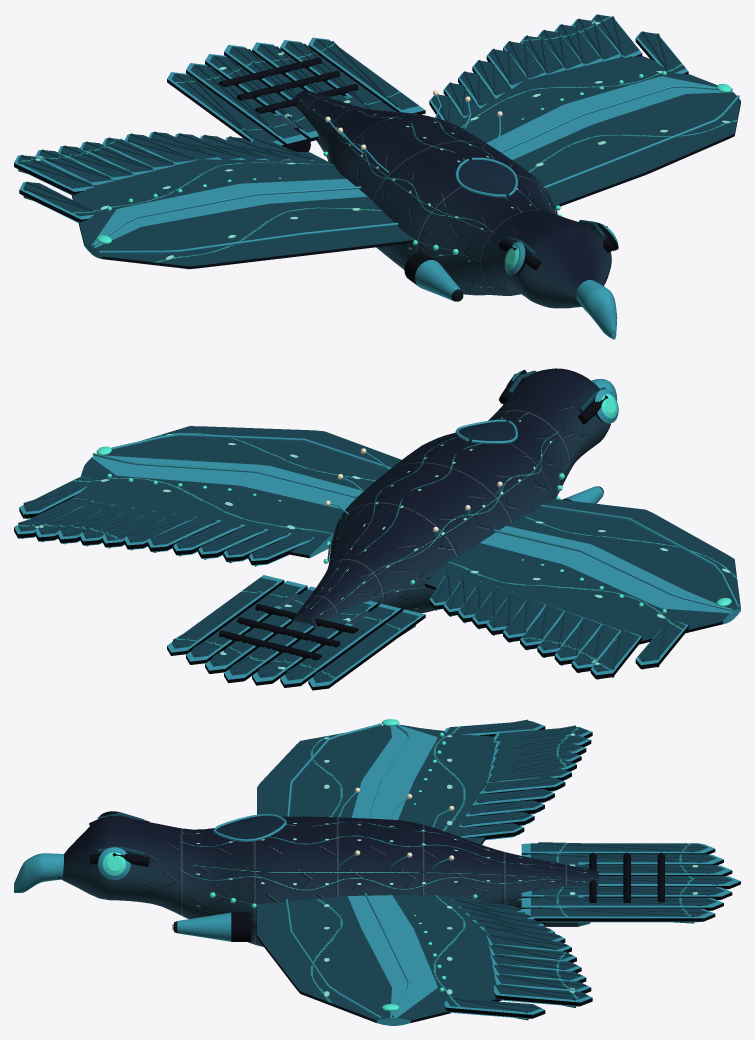
3 views of the same model, one above another, from view 1: azimuth 30°, elevation 25°; view 2: azimuth 150°, elevation 25°; view 3: azimuth 270°, elevation 25° (orthographic). The views are drawn at different scales.
Visible parts, largest first — view 1: goshawk_hull; view 2: goshawk_hull; view 3: goshawk_hull.
Part boxes in pixels (x1=…): goshawk_hull: x1=14, y1=14, x2=740, y2=339; goshawk_hull: x1=14, y1=368, x2=740, y2=690; goshawk_hull: x1=14, y1=719, x2=740, y2=1025.
Size of the model in its own units: 40.23 by 7.68 by 42.
1 material, 1 textured.
